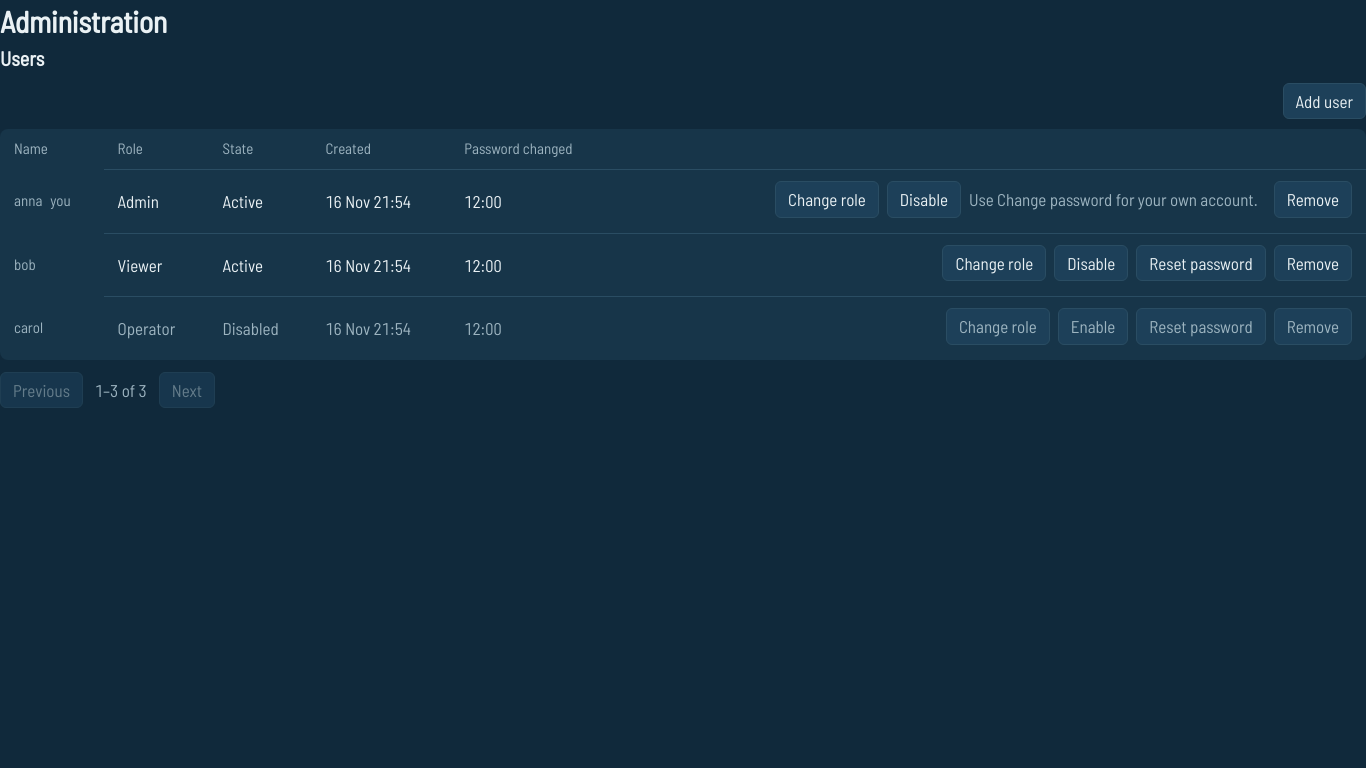
Test: AdministrationPage › keeps the dialog open on 409 for a taken name and empties the password fields
Step 1. Click the button "Add user" → click(1324, 101), box [1283,82,1365,119]
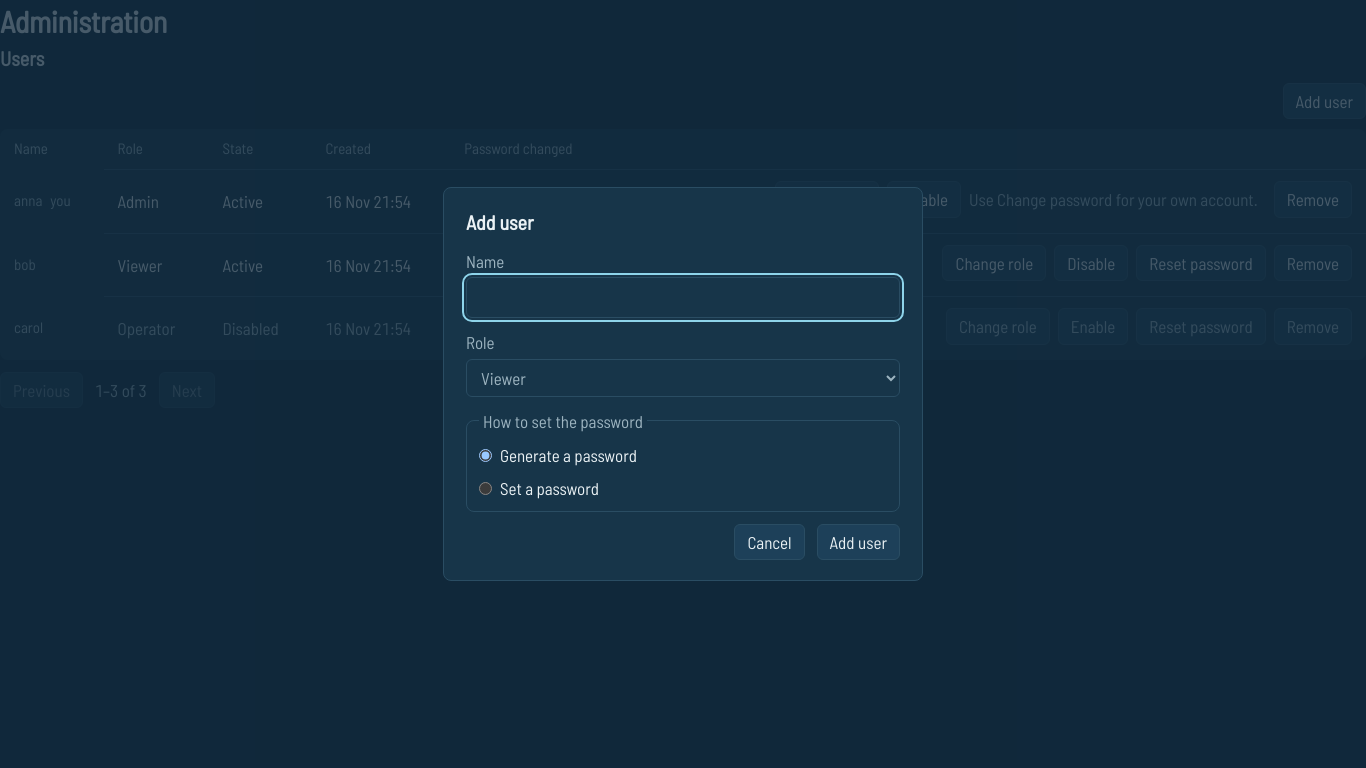
Step 2. Type "bob" into the field labelled "Name" → (683, 298), box [466,277,900,318]
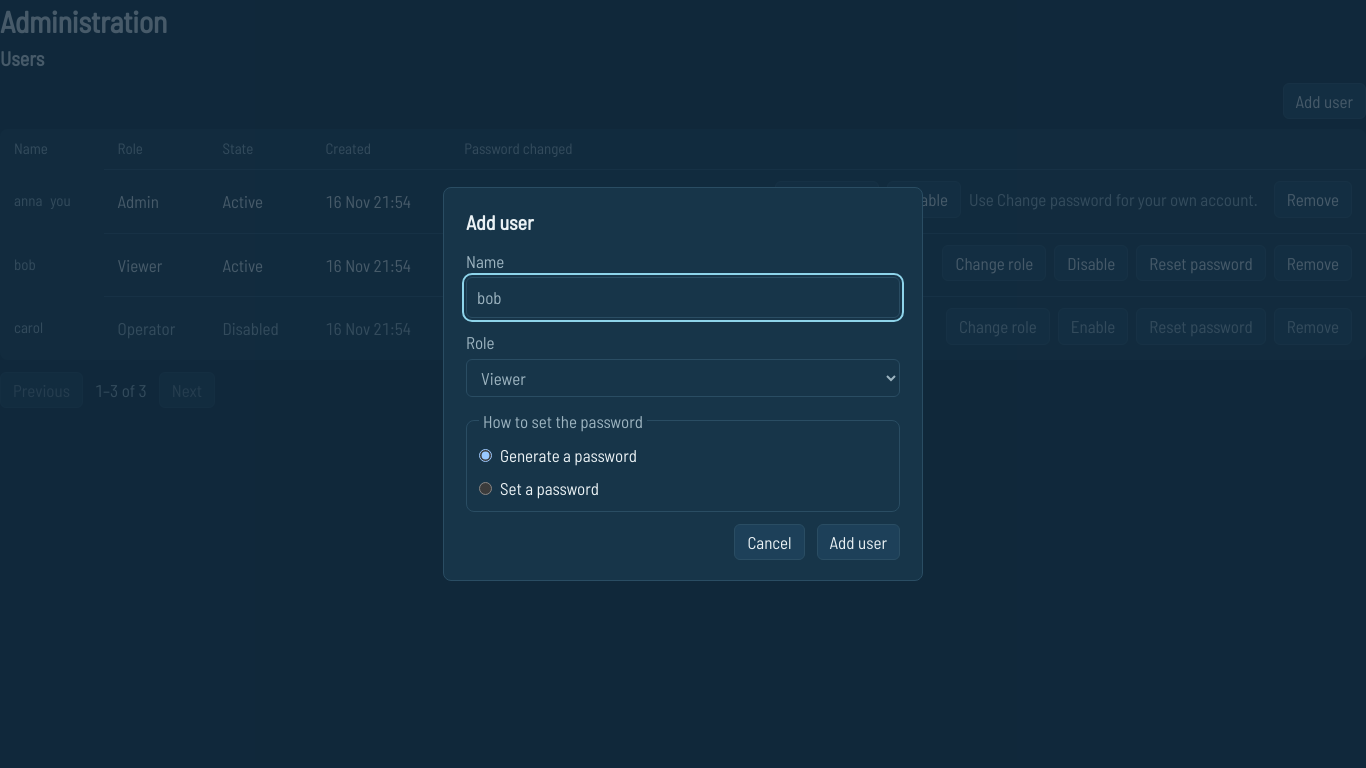
Step 3. Click the radio button labelled "Set a password" → click(486, 488), box [479,482,492,495]
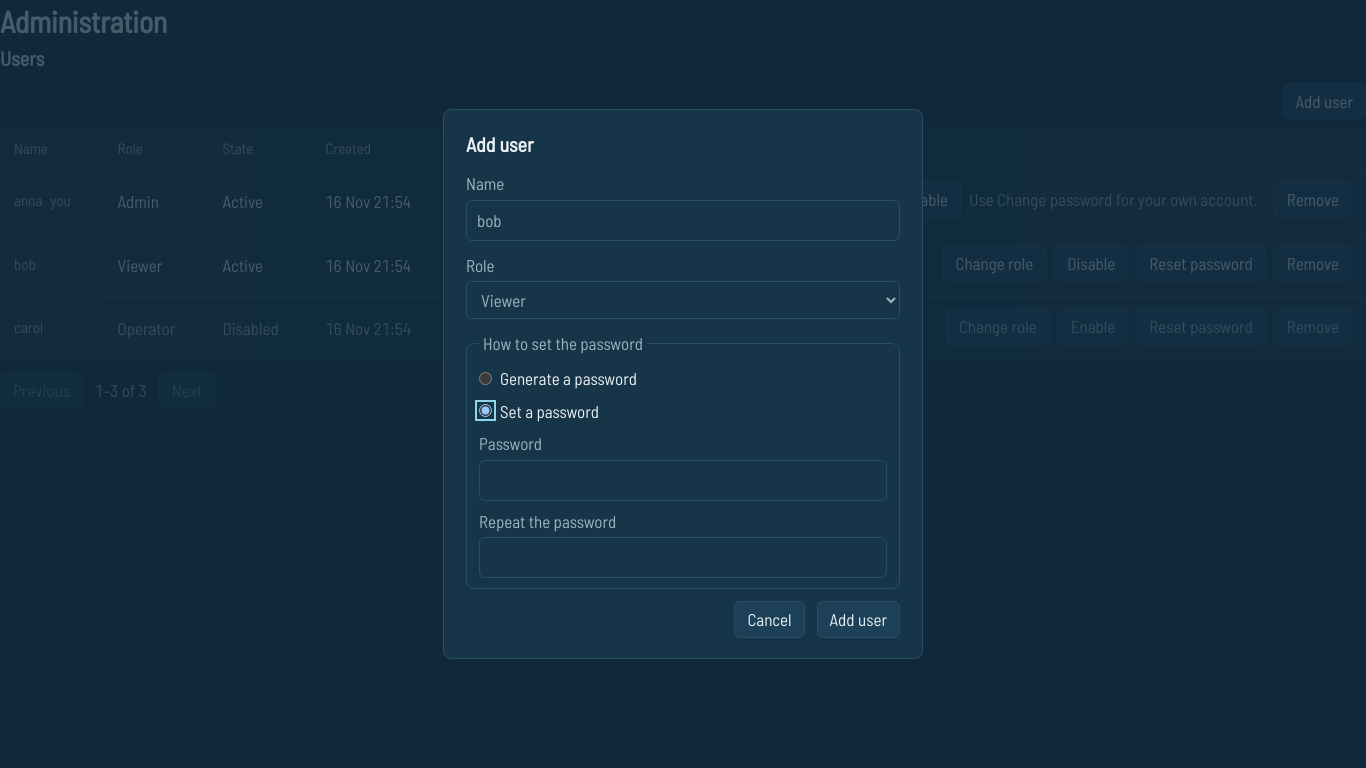
Step 4. Type "correct horse battery" into the password field labelled "Password" → (683, 480), box [479,460,887,501]
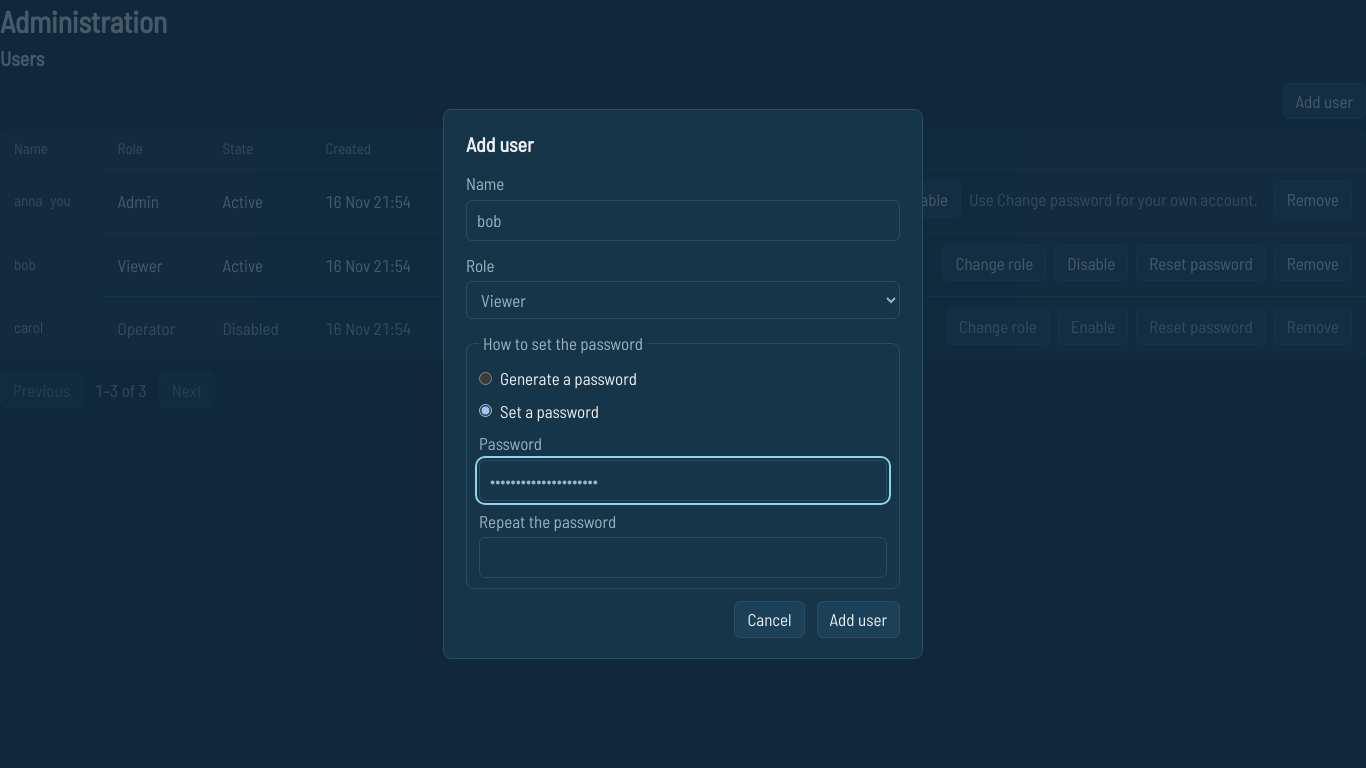
Step 5. Type "correct horse battery" into the password field labelled "Repeat the password" → (683, 558), box [479,537,887,578]
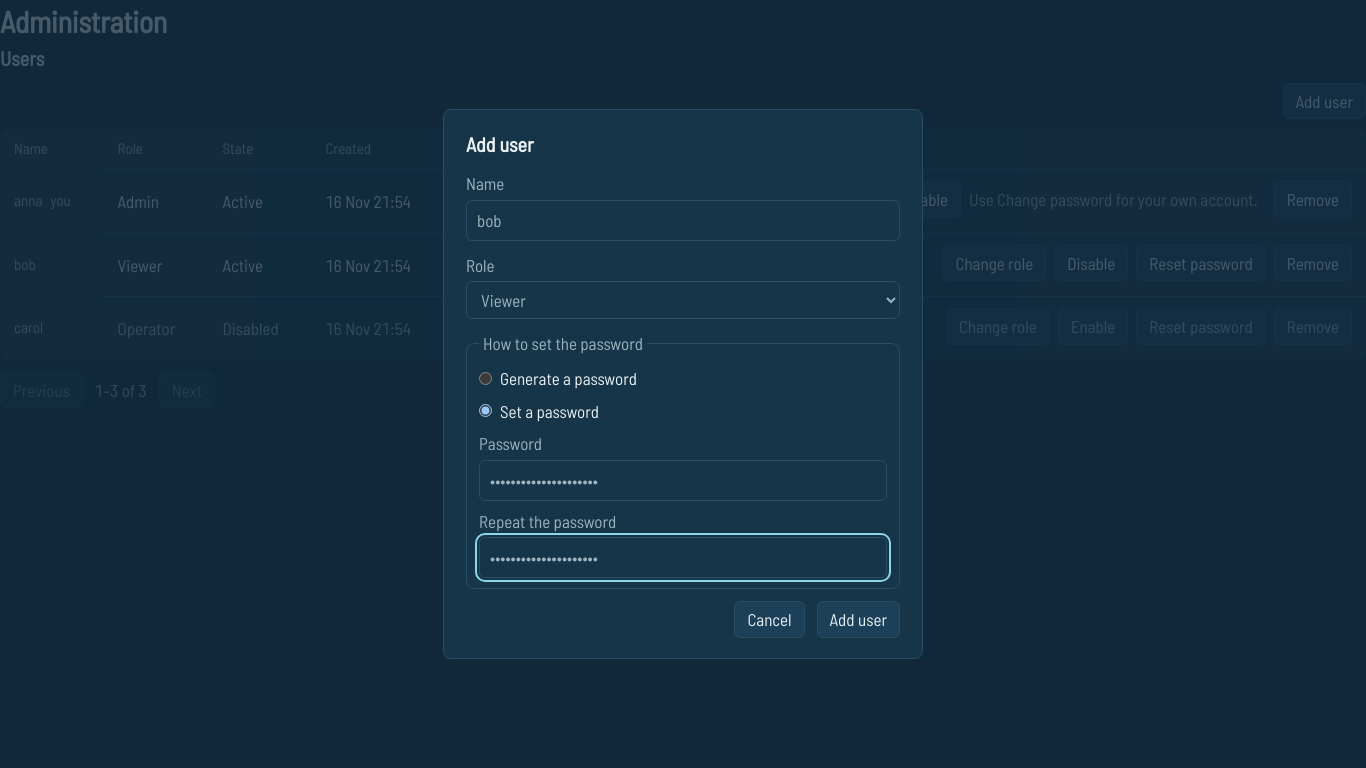
Step 6. Click the button "Add user" → click(858, 619), box [817,601,900,638]
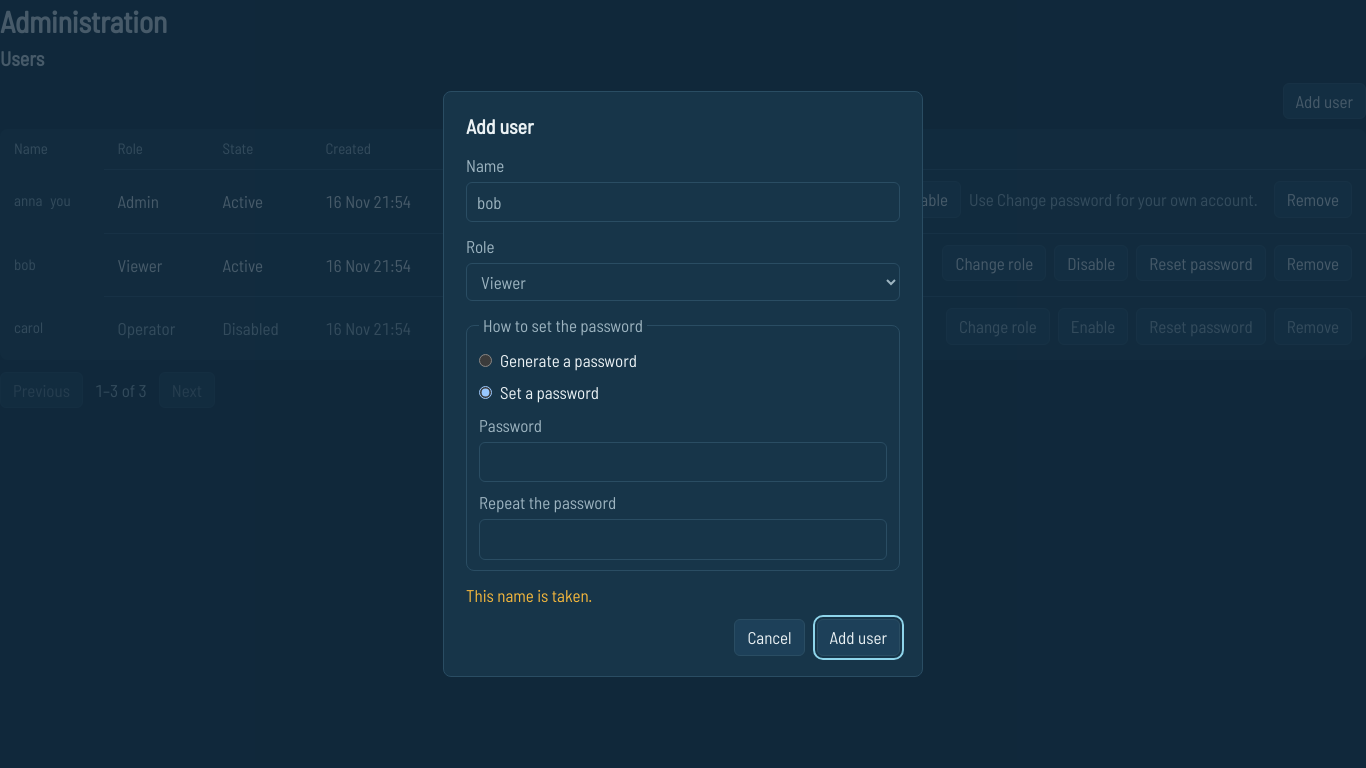
Expected: the dialog "Add user" is shown, [443,91,923,677]
Expected: the message reads "This name is taken.", [466,585,592,605]
Expected: the password field labelled "Password" is empty, [479,442,887,482]
